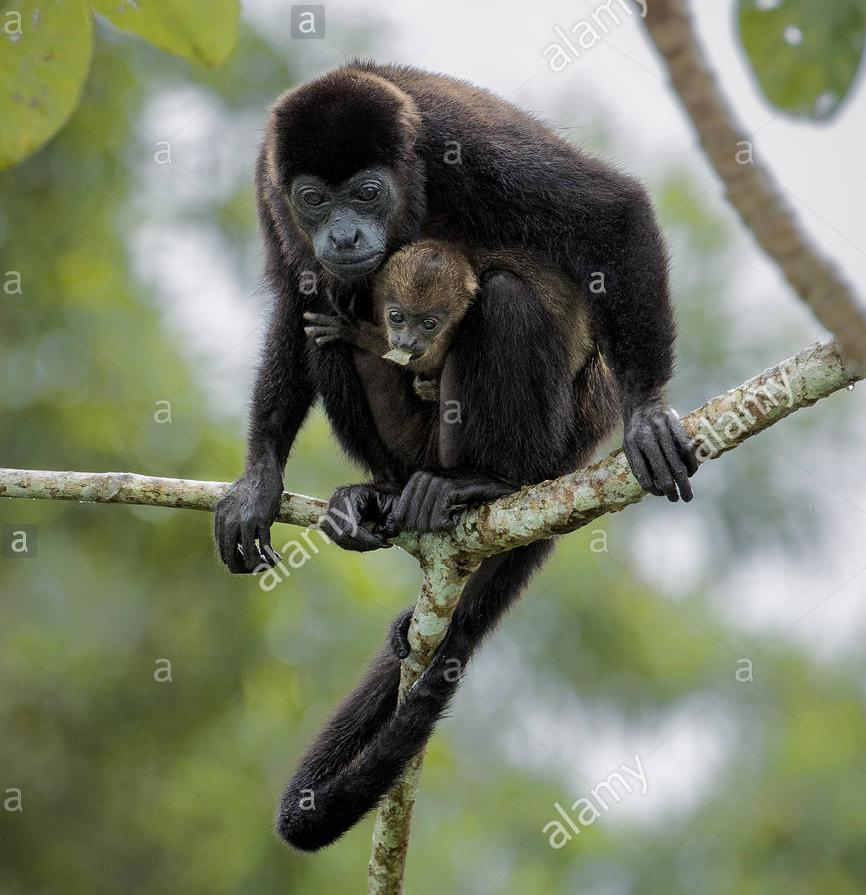monkey: (215, 61, 698, 573), (276, 539, 553, 851)
